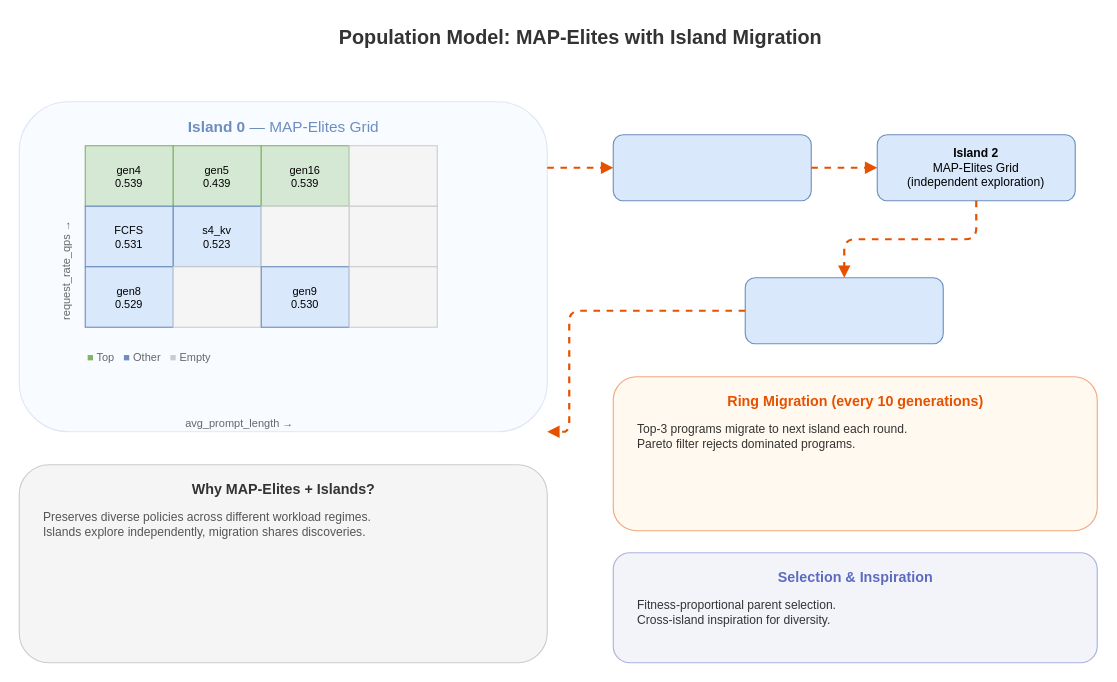
This 1117x682 diagram has some shape labels left out. Here are the shapes that lost their labels. From the top down, the centre of each, then its label:
At [711,167]: "Island 1 MAP-Elites Grid (independent exploration)".
At [843,310]: "Island 3 MAP-Elites Grid (independent exploration)".
